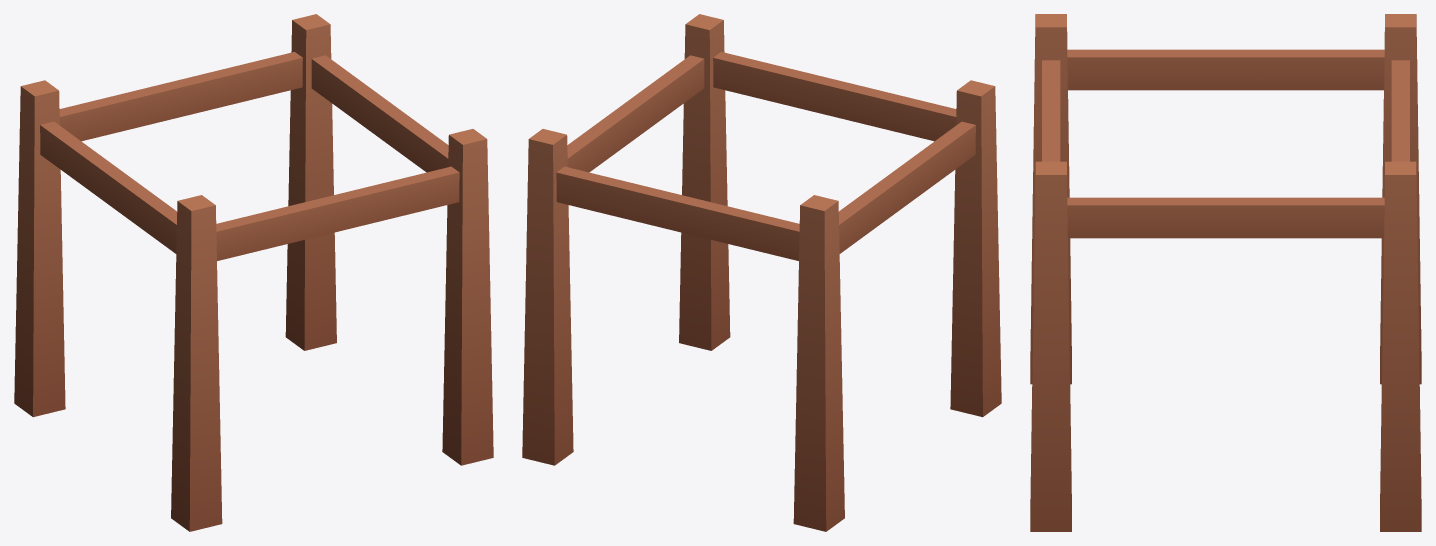
The model's file is structure.glb.
3 views of the same model, side by side, from view 1: azimuth 30°, elevation 25°; view 2: azimuth 150°, elevation 25°; view 3: azimuth 270°, elevation 25° (orthographic). The views are drawn at different scales.
Parts seen in each view (by area): view 1: structure; view 2: structure; view 3: structure.
Boxes of the visible parts, x1,y1,x2,y2 form: structure: (14, 14, 493, 531); structure: (522, 14, 1001, 531); structure: (1030, 14, 1421, 531).
Bounding box in the file's own units: 0.5 × 0.5 × 0.5.
